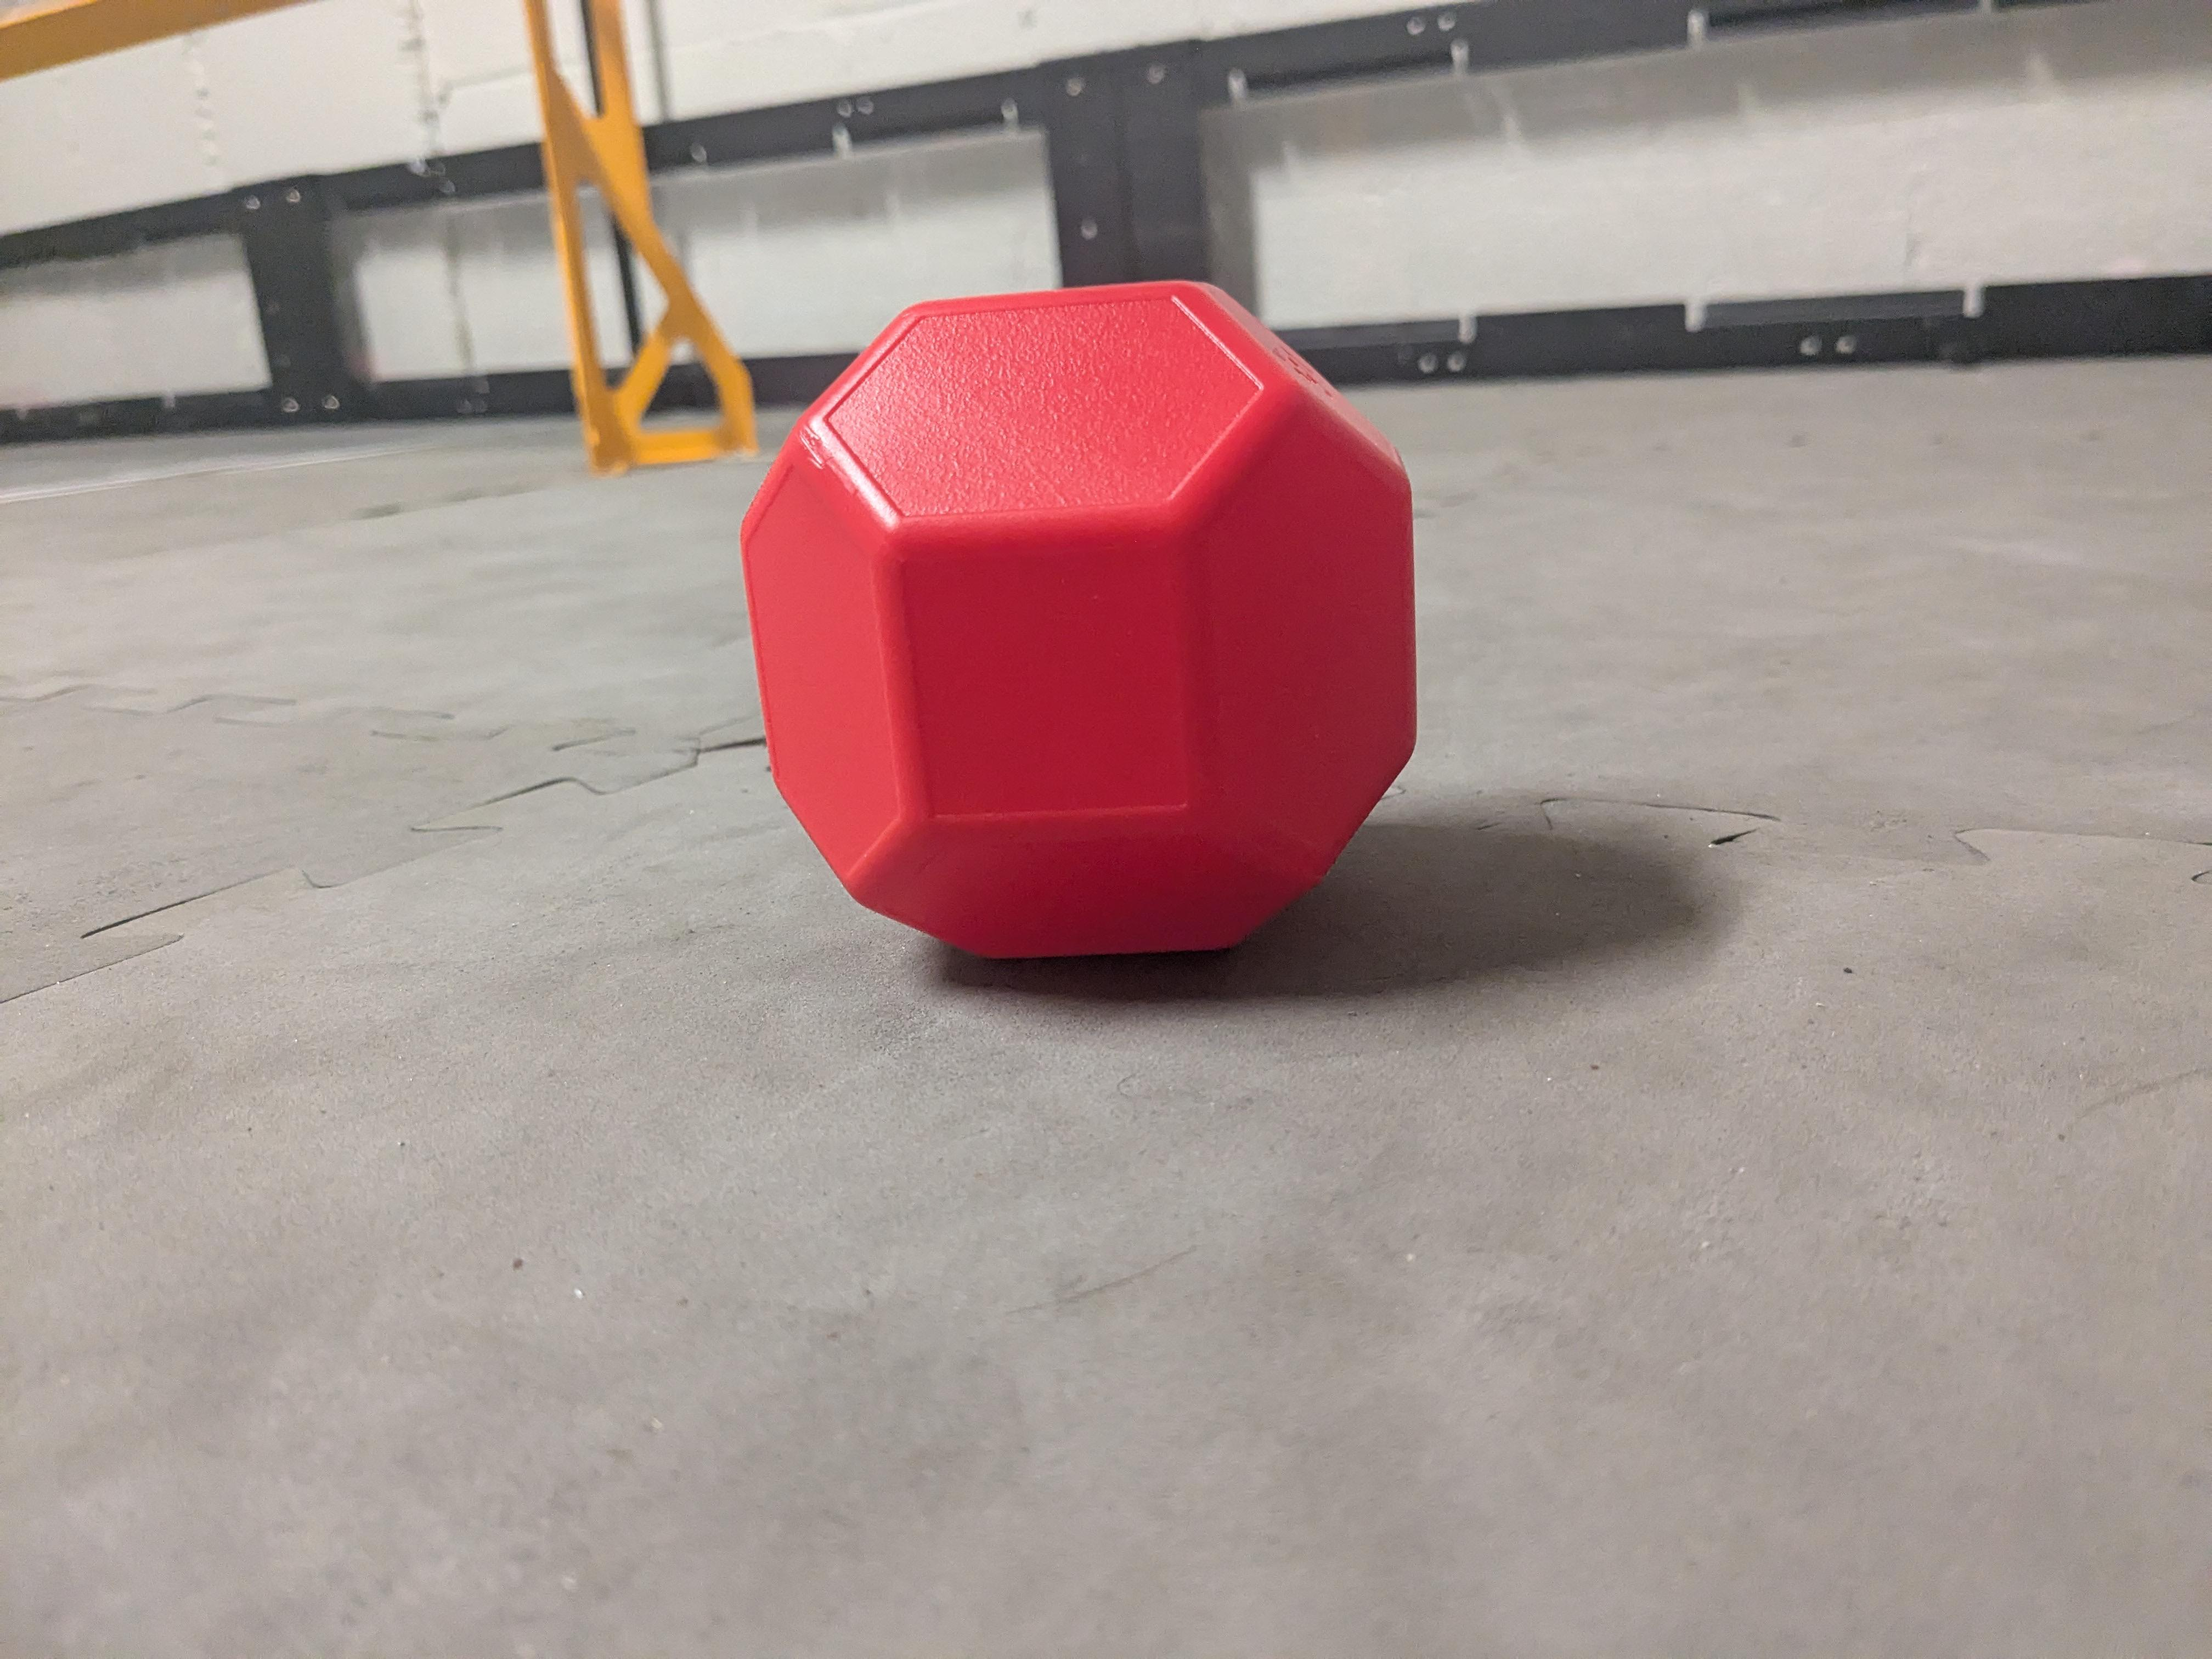Vex-Pieces-RED: (751, 293, 1420, 962)
